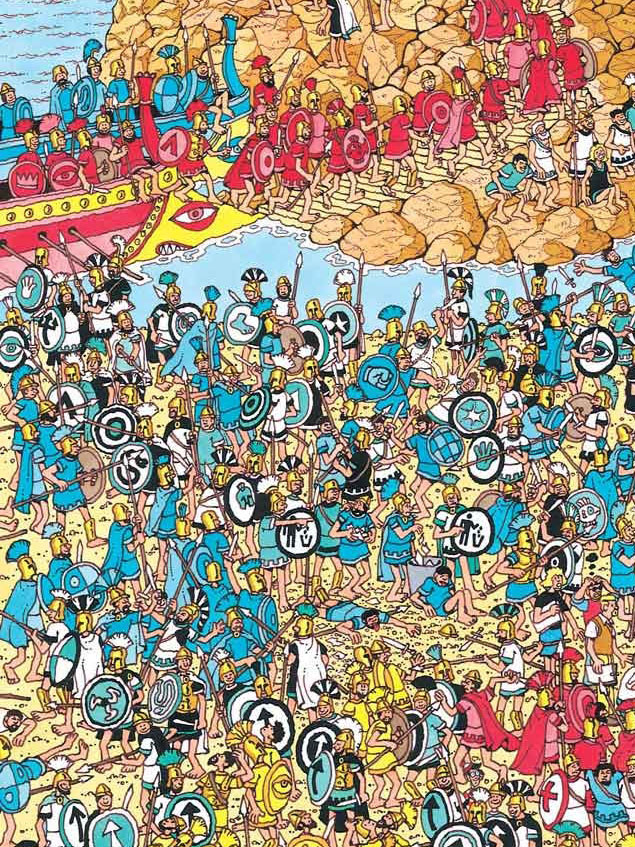waldo: (459, 759, 482, 788)
